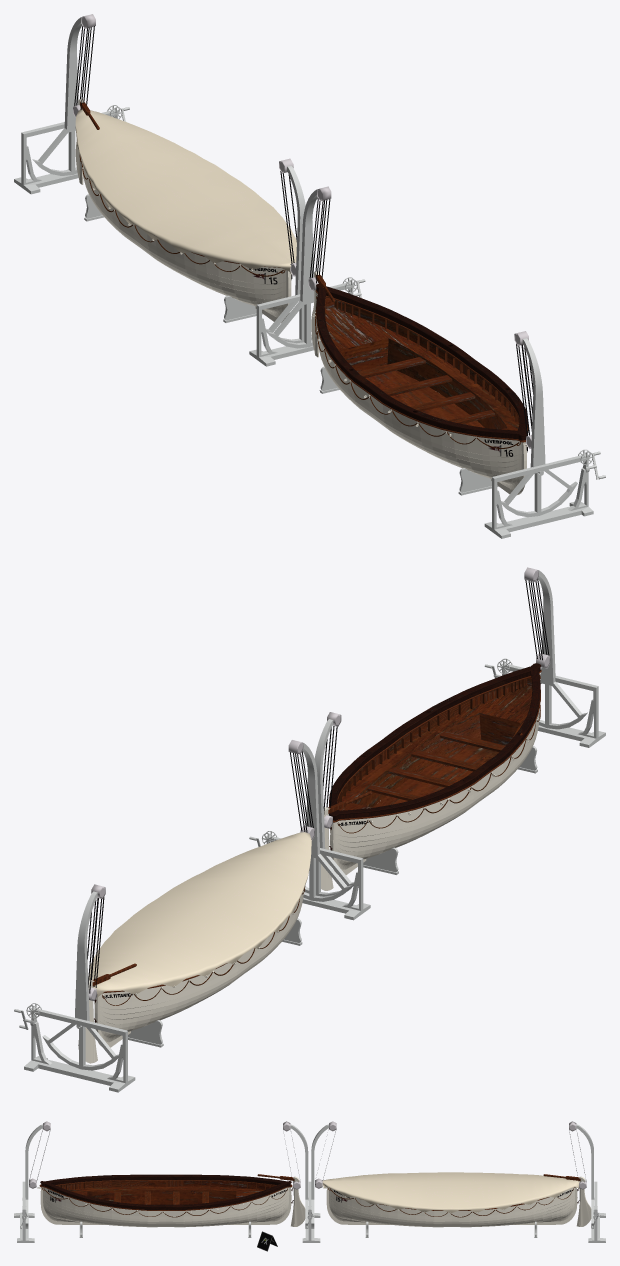
Rendered from lifeboat_s12.glb.
3 renders of one model, top to bottom at view 1: azimuth 30°, elevation 25°; view 2: azimuth 150°, elevation 25°; view 3: azimuth 270°, elevation 25°, orthographic. The views are drawn at different scales.
Visible parts, largest first — view 1: AX_BOARD_pasted__pasted__pasted__pasted__AX_FRAME1_0, polySurface33_wodden_0, polySurface33_Sleeper_0, polySurface33_Vegetation_Bark_Ponderosa_0, pasted__polySurface61_rope_cable_0; view 2: AX_BOARD_pasted__pasted__pasted__pasted__AX_FRAME1_0, polySurface33_wodden_0, polySurface33_Sleeper_0, polySurface33_Vegetation_Bark_Ponderosa_0, pasted__polySurface61_rope_cable_0; view 3: AX_BOARD_pasted__pasted__pasted__pasted__AX_FRAME1_0, polySurface33_wodden_0, polySurface33_Sleeper_0, polySurface33_Vegetation_Bark_Ponderosa_0, pasted__polySurface61_rope_cable_0, AX_BOARD_pasted__pasted__pasted__pasted__AXLOGO1_0.
Boxes of the visible parts, x1,y1,x2,y2 form: AX_BOARD_pasted__pasted__pasted__pasted__AX_FRAME1_0: (14,14,605,538); polySurface33_wodden_0: (80,101,528,442); polySurface33_Sleeper_0: (316,283,528,436); polySurface33_Vegetation_Bark_Ponderosa_0: (316,287,527,440); pasted__polySurface61_rope_cable_0: (79,154,475,444); AX_BOARD_pasted__pasted__pasted__pasted__AX_FRAME1_0: (14,567,605,1092); polySurface33_wodden_0: (92,670,541,993); polySurface33_Sleeper_0: (94,663,540,1022); polySurface33_Vegetation_Bark_Ponderosa_0: (161,667,540,984); pasted__polySurface61_rope_cable_0: (102,705,540,1005); AX_BOARD_pasted__pasted__pasted__pasted__AX_FRAME1_0: (14,1121,605,1251); polySurface33_wodden_0: (39,1174,580,1210); polySurface33_Sleeper_0: (40,1174,579,1207); polySurface33_Vegetation_Bark_Ponderosa_0: (41,1175,521,1209); pasted__polySurface61_rope_cable_0: (69,1188,573,1217); AX_BOARD_pasted__pasted__pasted__pasted__AXLOGO1_0: (257,1232,277,1250).
Bounding box in the file's own units: 0.00729 × 0.00886 × 0.0446.
Materials: 7 (7 with a texture image).
